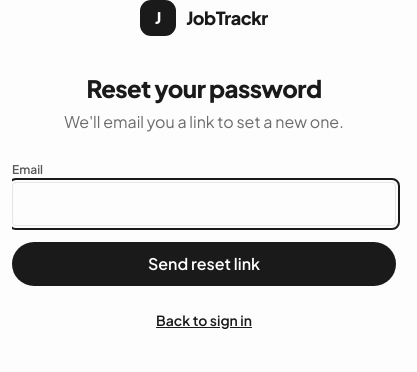
ForgotPasswordForm › validates the email before sending
Type "nope" into the field labelled "Email". click: (204,204)
box: 12,182 -> 396,226
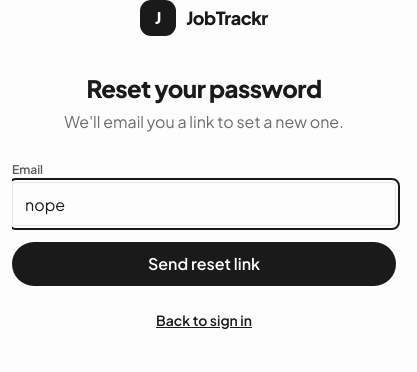
Click the button "Send reset link". click: (204,264)
box: 12,242 -> 396,286
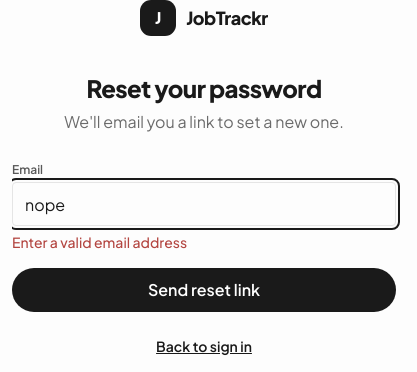
expect the text "Enter a valid email address" is shown: met, box 12,233 -> 187,251
